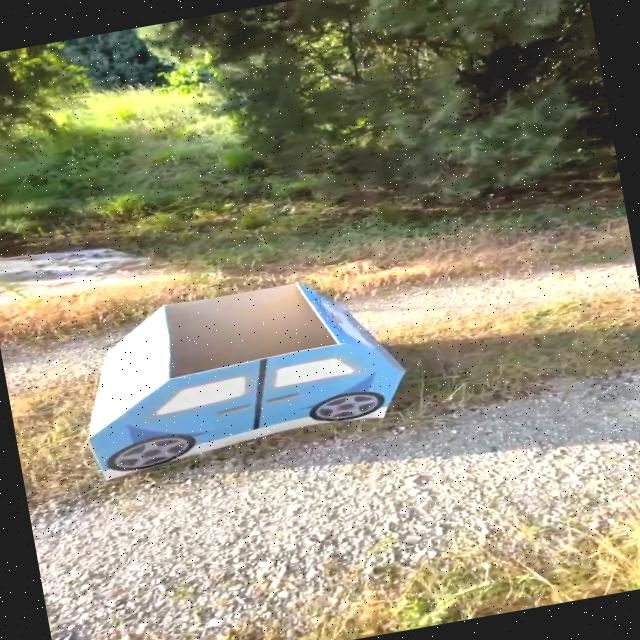blue_car: (55, 245, 462, 494)
